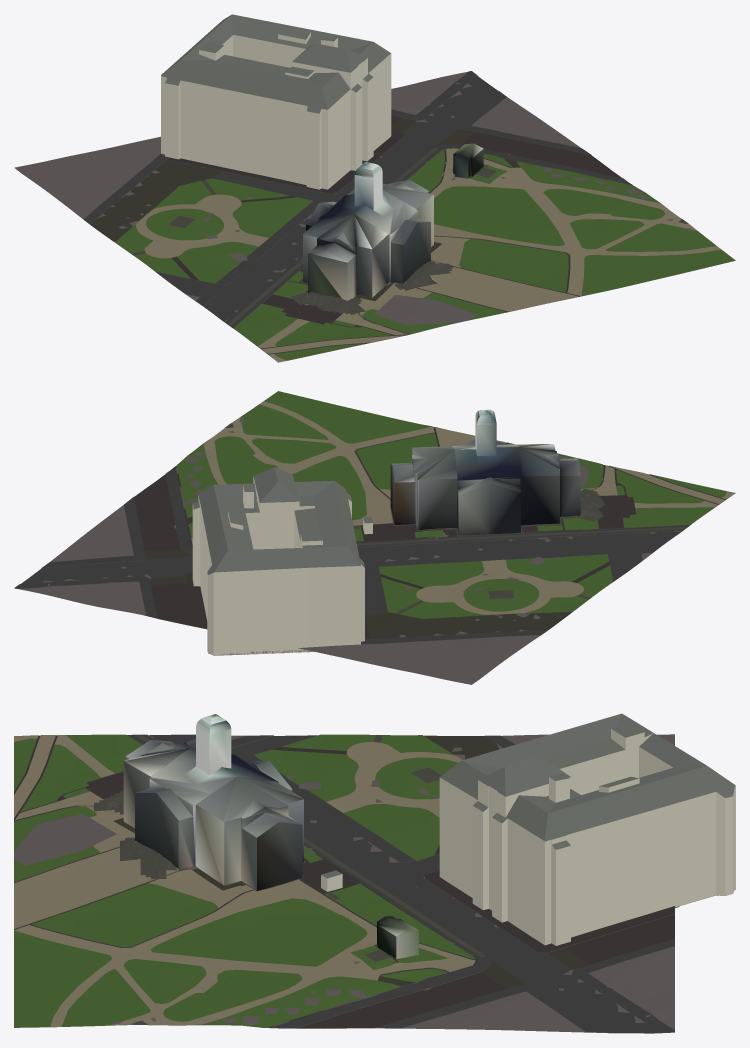
3 renders of one model, top to bottom at view 1: azimuth 30°, elevation 25°; view 2: azimuth 150°, elevation 25°; view 3: azimuth 270°, elevation 25°, orthographic. The views are drawn at different scales.
Visible parts, largest first — view 1: c_m06_p02; view 2: c_m06_p02; view 3: c_m06_p02.
Part boxes in pixels (left/top/right/bottom): c_m06_p02: left=14, top=14, right=735, bottom=362; c_m06_p02: left=14, top=391, right=735, bottom=684; c_m06_p02: left=14, top=713, right=735, bottom=1033.
Bounding box in the file's own units: 128 × 31.84 × 140.
